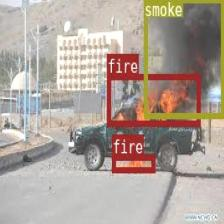fire: (106, 73, 200, 125), (111, 154, 155, 171)
smoke: (142, 0, 223, 117)
